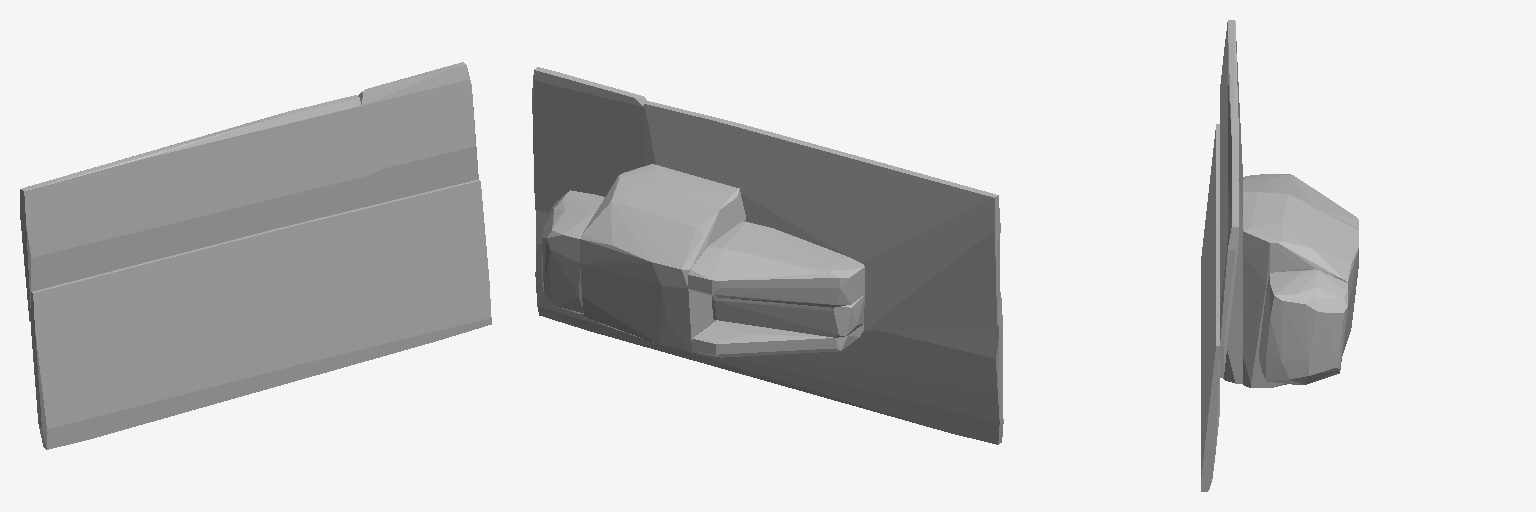
The robot description file, URDF, robot "root":
<robot name="root">
  <link name="link_thingiverse_packaged~part_3950487_packaged_convex_piece_0">
    <inertial>
      <origin rpy="0 0 0" xyz="0 0 0"/>
      <mass value="1.57E-01"/>
      <inertia ixx="2.82E-04" ixy="8.02E-05" ixz="9.89E-05" iyy="9.14E-04" iyz="1.17E-04" izz="8.37E-04"/>
    </inertial>
    <visual>
      <origin rpy="0 0 0" xyz="0 0 0"/>
      <geometry>
        <mesh filename="thingiverse_packaged~part_3950487_packaged_convex_piece_0.obj" scale="1.0000E+00 1.0000E+00 1.0000E+00"/>
      </geometry>
      <material name="">
        <color rgba="7.50E-01 7.50E-01 7.50E-01 1"/>
      </material>
    </visual>
    <collision>
      <origin rpy="0 0 0" xyz="0 0 0"/>
      <geometry>
        <mesh filename="thingiverse_packaged~part_3950487_packaged_convex_piece_0.obj" scale="1.0000E+00 1.0000E+00 1.0000E+00"/>
      </geometry>
    </collision>
  </link>
  <link name="link_thingiverse_packaged~part_3950487_packaged_convex_piece_1">
    <inertial>
      <origin rpy="0 0 0" xyz="0 0 0"/>
      <mass value="2.69E-01"/>
      <inertia ixx="2.97E-04" ixy="1.73E-04" ixz="-2.01E-04" iyy="1.14E-03" iyz="-6.91E-05" izz="1.00E-03"/>
    </inertial>
    <visual>
      <origin rpy="0 0 0" xyz="0 0 0"/>
      <geometry>
        <mesh filename="thingiverse_packaged~part_3950487_packaged_convex_piece_1.obj" scale="1.0000E+00 1.0000E+00 1.0000E+00"/>
      </geometry>
      <material name="">
        <color rgba="7.50E-01 7.50E-01 7.50E-01 1"/>
      </material>
    </visual>
    <collision>
      <origin rpy="0 0 0" xyz="0 0 0"/>
      <geometry>
        <mesh filename="thingiverse_packaged~part_3950487_packaged_convex_piece_1.obj" scale="1.0000E+00 1.0000E+00 1.0000E+00"/>
      </geometry>
    </collision>
  </link>
  <joint name="link_thingiverse_packaged~part_3950487_packaged_convex_piece_1_joint" type="fixed">
    <origin rpy="0 0 0" xyz="0 0 0"/>
    <parent link="link_thingiverse_packaged~part_3950487_packaged_convex_piece_0"/>
    <child link="link_thingiverse_packaged~part_3950487_packaged_convex_piece_1"/>
  </joint>
  <link name="link_thingiverse_packaged~part_3950487_packaged_convex_piece_2">
    <inertial>
      <origin rpy="0 0 0" xyz="0 0 0"/>
      <mass value="3.66E-02"/>
      <inertia ixx="6.95E-05" ixy="-4.45E-05" ixz="8.35E-05" iyy="2.22E-04" iyz="-2.28E-05" izz="1.78E-04"/>
    </inertial>
    <visual>
      <origin rpy="0 0 0" xyz="0 0 0"/>
      <geometry>
        <mesh filename="thingiverse_packaged~part_3950487_packaged_convex_piece_2.obj" scale="1.0000E+00 1.0000E+00 1.0000E+00"/>
      </geometry>
      <material name="">
        <color rgba="7.50E-01 7.50E-01 7.50E-01 1"/>
      </material>
    </visual>
    <collision>
      <origin rpy="0 0 0" xyz="0 0 0"/>
      <geometry>
        <mesh filename="thingiverse_packaged~part_3950487_packaged_convex_piece_2.obj" scale="1.0000E+00 1.0000E+00 1.0000E+00"/>
      </geometry>
    </collision>
  </link>
  <joint name="link_thingiverse_packaged~part_3950487_packaged_convex_piece_2_joint" type="fixed">
    <origin rpy="0 0 0" xyz="0 0 0"/>
    <parent link="link_thingiverse_packaged~part_3950487_packaged_convex_piece_1"/>
    <child link="link_thingiverse_packaged~part_3950487_packaged_convex_piece_2"/>
  </joint>
  <link name="link_thingiverse_packaged~part_3950487_packaged_convex_piece_3">
    <inertial>
      <origin rpy="0 0 0" xyz="0 0 0"/>
      <mass value="8.85E-02"/>
      <inertia ixx="2.86E-05" ixy="-1.78E-05" ixz="-3.41E-05" iyy="1.66E-04" iyz="6.81E-06" izz="1.70E-04"/>
    </inertial>
    <visual>
      <origin rpy="0 0 0" xyz="0 0 0"/>
      <geometry>
        <mesh filename="thingiverse_packaged~part_3950487_packaged_convex_piece_3.obj" scale="1.0000E+00 1.0000E+00 1.0000E+00"/>
      </geometry>
      <material name="">
        <color rgba="7.50E-01 7.50E-01 7.50E-01 1"/>
      </material>
    </visual>
    <collision>
      <origin rpy="0 0 0" xyz="0 0 0"/>
      <geometry>
        <mesh filename="thingiverse_packaged~part_3950487_packaged_convex_piece_3.obj" scale="1.0000E+00 1.0000E+00 1.0000E+00"/>
      </geometry>
    </collision>
  </link>
  <joint name="link_thingiverse_packaged~part_3950487_packaged_convex_piece_3_joint" type="fixed">
    <origin rpy="0 0 0" xyz="0 0 0"/>
    <parent link="link_thingiverse_packaged~part_3950487_packaged_convex_piece_2"/>
    <child link="link_thingiverse_packaged~part_3950487_packaged_convex_piece_3"/>
  </joint>
  <link name="link_thingiverse_packaged~part_3950487_packaged_convex_piece_4">
    <inertial>
      <origin rpy="0 0 0" xyz="0 0 0"/>
      <mass value="3.61E-01"/>
      <inertia ixx="2.13E-04" ixy="4.21E-05" ixz="1.88E-06" iyy="2.70E-04" iyz="1.20E-07" izz="2.45E-04"/>
    </inertial>
    <visual>
      <origin rpy="0 0 0" xyz="0 0 0"/>
      <geometry>
        <mesh filename="thingiverse_packaged~part_3950487_packaged_convex_piece_4.obj" scale="1.0000E+00 1.0000E+00 1.0000E+00"/>
      </geometry>
      <material name="">
        <color rgba="7.50E-01 7.50E-01 7.50E-01 1"/>
      </material>
    </visual>
    <collision>
      <origin rpy="0 0 0" xyz="0 0 0"/>
      <geometry>
        <mesh filename="thingiverse_packaged~part_3950487_packaged_convex_piece_4.obj" scale="1.0000E+00 1.0000E+00 1.0000E+00"/>
      </geometry>
    </collision>
  </link>
  <joint name="link_thingiverse_packaged~part_3950487_packaged_convex_piece_4_joint" type="fixed">
    <origin rpy="0 0 0" xyz="0 0 0"/>
    <parent link="link_thingiverse_packaged~part_3950487_packaged_convex_piece_3"/>
    <child link="link_thingiverse_packaged~part_3950487_packaged_convex_piece_4"/>
  </joint>
  <link name="link_thingiverse_packaged~part_3950487_packaged_convex_piece_5">
    <inertial>
      <origin rpy="0 0 0" xyz="0 0 0"/>
      <mass value="7.93E-02"/>
      <inertia ixx="3.28E-05" ixy="5.64E-05" ixz="7.72E-07" iyy="2.43E-04" iyz="7.53E-07" izz="2.52E-04"/>
    </inertial>
    <visual>
      <origin rpy="0 0 0" xyz="0 0 0"/>
      <geometry>
        <mesh filename="thingiverse_packaged~part_3950487_packaged_convex_piece_5.obj" scale="1.0000E+00 1.0000E+00 1.0000E+00"/>
      </geometry>
      <material name="">
        <color rgba="7.50E-01 7.50E-01 7.50E-01 1"/>
      </material>
    </visual>
    <collision>
      <origin rpy="0 0 0" xyz="0 0 0"/>
      <geometry>
        <mesh filename="thingiverse_packaged~part_3950487_packaged_convex_piece_5.obj" scale="1.0000E+00 1.0000E+00 1.0000E+00"/>
      </geometry>
    </collision>
  </link>
  <joint name="link_thingiverse_packaged~part_3950487_packaged_convex_piece_5_joint" type="fixed">
    <origin rpy="0 0 0" xyz="0 0 0"/>
    <parent link="link_thingiverse_packaged~part_3950487_packaged_convex_piece_4"/>
    <child link="link_thingiverse_packaged~part_3950487_packaged_convex_piece_5"/>
  </joint>
  <link name="link_thingiverse_packaged~part_3950487_packaged_convex_piece_6">
    <inertial>
      <origin rpy="0 0 0" xyz="0 0 0"/>
      <mass value="3.79E-02"/>
      <inertia ixx="2.05E-05" ixy="-7.96E-06" ixz="2.57E-05" iyy="7.31E-05" iyz="-5.48E-06" izz="6.66E-05"/>
    </inertial>
    <visual>
      <origin rpy="0 0 0" xyz="0 0 0"/>
      <geometry>
        <mesh filename="thingiverse_packaged~part_3950487_packaged_convex_piece_6.obj" scale="1.0000E+00 1.0000E+00 1.0000E+00"/>
      </geometry>
      <material name="">
        <color rgba="7.50E-01 7.50E-01 7.50E-01 1"/>
      </material>
    </visual>
    <collision>
      <origin rpy="0 0 0" xyz="0 0 0"/>
      <geometry>
        <mesh filename="thingiverse_packaged~part_3950487_packaged_convex_piece_6.obj" scale="1.0000E+00 1.0000E+00 1.0000E+00"/>
      </geometry>
    </collision>
  </link>
  <joint name="link_thingiverse_packaged~part_3950487_packaged_convex_piece_6_joint" type="fixed">
    <origin rpy="0 0 0" xyz="0 0 0"/>
    <parent link="link_thingiverse_packaged~part_3950487_packaged_convex_piece_5"/>
    <child link="link_thingiverse_packaged~part_3950487_packaged_convex_piece_6"/>
  </joint>
  <link name="link_thingiverse_packaged~part_3950487_packaged_convex_piece_7">
    <inertial>
      <origin rpy="0 0 0" xyz="0 0 0"/>
      <mass value="4.78E-02"/>
      <inertia ixx="5.54E-06" ixy="1.20E-06" ixz="1.32E-05" iyy="9.87E-05" iyz="2.54E-08" izz="9.82E-05"/>
    </inertial>
    <visual>
      <origin rpy="0 0 0" xyz="0 0 0"/>
      <geometry>
        <mesh filename="thingiverse_packaged~part_3950487_packaged_convex_piece_7.obj" scale="1.0000E+00 1.0000E+00 1.0000E+00"/>
      </geometry>
      <material name="">
        <color rgba="7.50E-01 7.50E-01 7.50E-01 1"/>
      </material>
    </visual>
    <collision>
      <origin rpy="0 0 0" xyz="0 0 0"/>
      <geometry>
        <mesh filename="thingiverse_packaged~part_3950487_packaged_convex_piece_7.obj" scale="1.0000E+00 1.0000E+00 1.0000E+00"/>
      </geometry>
    </collision>
  </link>
  <joint name="link_thingiverse_packaged~part_3950487_packaged_convex_piece_7_joint" type="fixed">
    <origin rpy="0 0 0" xyz="0 0 0"/>
    <parent link="link_thingiverse_packaged~part_3950487_packaged_convex_piece_6"/>
    <child link="link_thingiverse_packaged~part_3950487_packaged_convex_piece_7"/>
  </joint>
</robot>

--- Facts derived from the render (not from the file) ---
3 views of the same robot in one strip: view 1: azimuth 30°, elevation 25°; view 2: azimuth 150°, elevation 25°; view 3: azimuth 270°, elevation 25° (orthographic).
Model root with 8 links and 7 joints (7 fixed), rooted at link_thingiverse_packaged~part_3950487_packaged_convex_piece_0, posed every joint at zero.
Visible links, largest first — view 1: link_thingiverse_packaged~part_3950487_packaged_convex_piece_0, link_thingiverse_packaged~part_3950487_packaged_convex_piece_1, link_thingiverse_packaged~part_3950487_packaged_convex_piece_2; view 2: link_thingiverse_packaged~part_3950487_packaged_convex_piece_1, link_thingiverse_packaged~part_3950487_packaged_convex_piece_0, link_thingiverse_packaged~part_3950487_packaged_convex_piece_4, link_thingiverse_packaged~part_3950487_packaged_convex_piece_2, link_thingiverse_packaged~part_3950487_packaged_convex_piece_3, link_thingiverse_packaged~part_3950487_packaged_convex_piece_5, link_thingiverse_packaged~part_3950487_packaged_convex_piece_7, link_thingiverse_packaged~part_3950487_packaged_convex_piece_6; view 3: link_thingiverse_packaged~part_3950487_packaged_convex_piece_4, link_thingiverse_packaged~part_3950487_packaged_convex_piece_5, link_thingiverse_packaged~part_3950487_packaged_convex_piece_0, link_thingiverse_packaged~part_3950487_packaged_convex_piece_1, link_thingiverse_packaged~part_3950487_packaged_convex_piece_2, link_thingiverse_packaged~part_3950487_packaged_convex_piece_3.
Link boxes in pixels (x1,y1,x2,y2): link_thingiverse_packaged~part_3950487_packaged_convex_piece_0: (31, 179, 491, 449); link_thingiverse_packaged~part_3950487_packaged_convex_piece_1: (20, 95, 364, 321); link_thingiverse_packaged~part_3950487_packaged_convex_piece_2: (358, 62, 478, 206); link_thingiverse_packaged~part_3950487_packaged_convex_piece_1: (644, 101, 1000, 330); link_thingiverse_packaged~part_3950487_packaged_convex_piece_0: (535, 210, 1003, 444); link_thingiverse_packaged~part_3950487_packaged_convex_piece_4: (580, 164, 745, 351); link_thingiverse_packaged~part_3950487_packaged_convex_piece_2: (532, 67, 647, 212); link_thingiverse_packaged~part_3950487_packaged_convex_piece_3: (688, 221, 864, 307); link_thingiverse_packaged~part_3950487_packaged_convex_piece_5: (542, 190, 604, 313); link_thingiverse_packaged~part_3950487_packaged_convex_piece_7: (712, 295, 864, 337); link_thingiverse_packaged~part_3950487_packaged_convex_piece_6: (692, 320, 863, 357); link_thingiverse_packaged~part_3950487_packaged_convex_piece_4: (1243, 192, 1358, 387); link_thingiverse_packaged~part_3950487_packaged_convex_piece_5: (1259, 269, 1347, 384); link_thingiverse_packaged~part_3950487_packaged_convex_piece_0: (1201, 124, 1219, 491); link_thingiverse_packaged~part_3950487_packaged_convex_piece_1: (1220, 20, 1242, 383); link_thingiverse_packaged~part_3950487_packaged_convex_piece_2: (1220, 178, 1238, 377); link_thingiverse_packaged~part_3950487_packaged_convex_piece_3: (1243, 174, 1358, 229).
Size in the robot's own frame: 0.2313 by 0.0677 by 0.1305 metres.
8 mesh visuals loaded from 8 distinct referenced files (8 OBJ).
